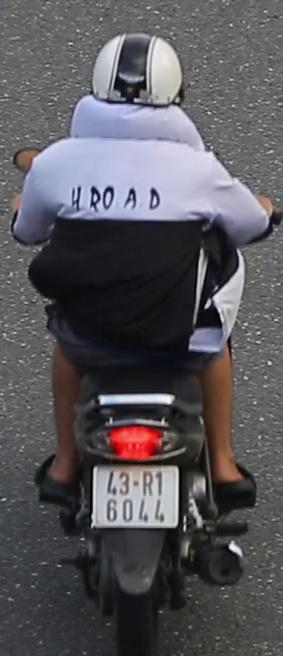LP: (89, 458, 187, 542)
helmet: (91, 31, 185, 124)
